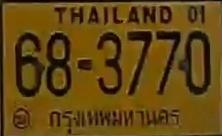0: (180, 30, 210, 94)
3: (96, 31, 121, 94)
6: (14, 32, 44, 97)
7: (155, 30, 180, 94), (126, 30, 150, 94)
8: (45, 32, 71, 96)
BKK: (44, 104, 183, 133)
